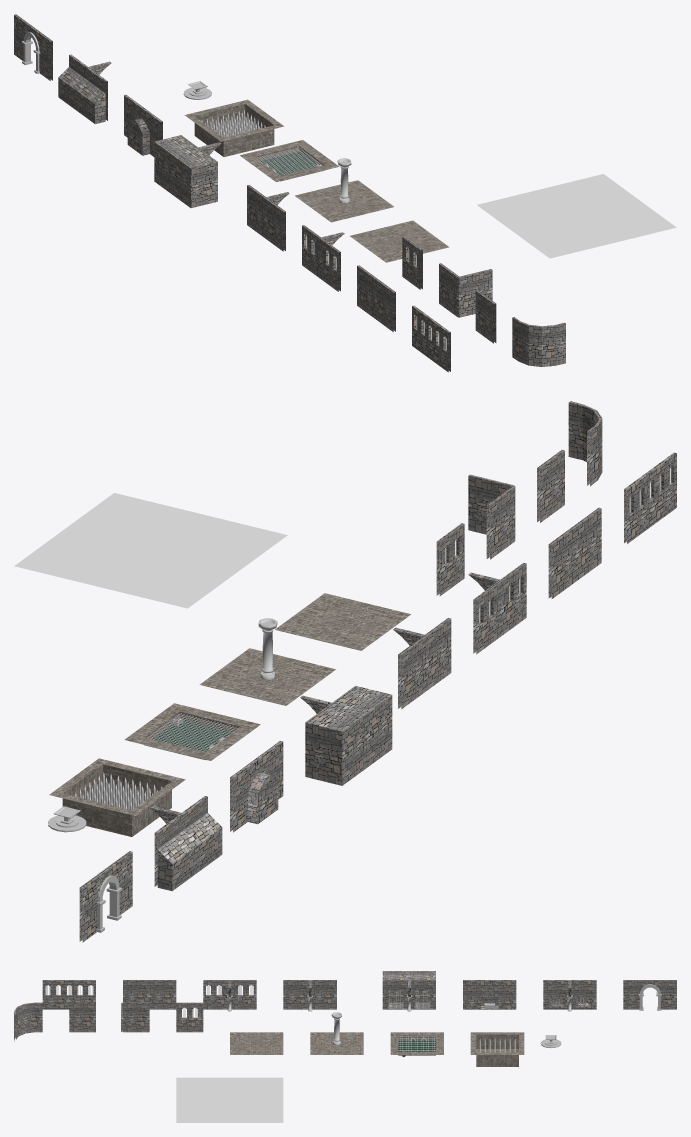
The model's file is dongon_rooms_modular.fbx.
The picture shows the model from 3 angles, top to bottom: view 1: azimuth 30°, elevation 25°; view 2: azimuth 150°, elevation 25°; view 3: azimuth 270°, elevation 25°; orthographic projection. The views are drawn at different scales.
Visible parts, largest first — view 1: AllTextures_mergedObject.018, AllTextures_mergedObject.007, AllTextures_mergedObject.012, AllTextures_mergedObject.001, AllTextures_mergedObject.013, AllTextures_mergedObject.003, AllTextures_mergedObject.015, AllTextures_mergedObject.016, AllTextures_mergedObject.011, AllTextures_mergedObject.010, AllTextures_mergedObject.009, AllTextures_mergedObject.004 (+5 smaller); view 2: AllTextures_mergedObject.018, AllTextures_mergedObject.007, AllTextures_mergedObject.012, AllTextures_mergedObject.001, AllTextures_mergedObject.013, AllTextures_mergedObject.003, AllTextures_mergedObject.016, AllTextures_mergedObject.010, AllTextures_mergedObject.009, AllTextures_mergedObject.006, AllTextures_mergedObject.014, AllTextures_mergedObject.011 (+5 smaller); view 3: AllTextures_mergedObject.018, AllTextures_mergedObject.007, AllTextures_mergedObject.012, AllTextures_mergedObject.013, AllTextures_mergedObject.009, AllTextures_mergedObject.006, AllTextures_mergedObject.010, AllTextures_mergedObject.014, AllTextures_mergedObject.004, AllTextures_mergedObject.001, AllTextures_mergedObject.002, AllTextures_mergedObject.003 (+5 smaller).
Boxes of the visible parts, box(x1,y1,x2,y2) form: AllTextures_mergedObject.018: box(477, 174, 676, 258); AllTextures_mergedObject.007: box(154, 135, 221, 207); AllTextures_mergedObject.012: box(184, 99, 284, 156); AllTextures_mergedObject.001: box(295, 158, 393, 222); AllTextures_mergedObject.013: box(58, 54, 111, 124); AllTextures_mergedObject.003: box(240, 140, 339, 181); AllTextures_mergedObject.015: box(512, 317, 565, 366); AllTextures_mergedObject.016: box(350, 220, 449, 262); AllTextures_mergedObject.011: box(439, 263, 492, 317); AllTextures_mergedObject.010: box(302, 225, 344, 291); AllTextures_mergedObject.009: box(247, 185, 289, 251); AllTextures_mergedObject.004: box(412, 305, 450, 372); AllTextures_mergedObject.018: box(14, 493, 287, 608); AllTextures_mergedObject.007: box(300, 686, 392, 785); AllTextures_mergedObject.012: box(49, 758, 185, 836); AllTextures_mergedObject.001: box(199, 618, 335, 705); AllTextures_mergedObject.013: box(150, 796, 222, 891); AllTextures_mergedObject.003: box(124, 703, 260, 760); AllTextures_mergedObject.016: box(275, 593, 410, 650); AllTextures_mergedObject.010: box(468, 562, 526, 654); AllTextures_mergedObject.009: box(393, 618, 451, 709); AllTextures_mergedObject.006: box(230, 741, 283, 832); AllTextures_mergedObject.014: box(548, 507, 601, 598); AllTextures_mergedObject.011: box(468, 474, 515, 559); AllTextures_mergedObject.018: box(176, 1077, 283, 1122); AllTextures_mergedObject.007: box(382, 971, 435, 1011); AllTextures_mergedObject.012: box(470, 1032, 524, 1066); AllTextures_mergedObject.013: box(543, 980, 596, 1011); AllTextures_mergedObject.009: box(283, 980, 336, 1011); AllTextures_mergedObject.006: box(463, 980, 516, 1009); AllTextures_mergedObject.010: box(203, 980, 256, 1011); AllTextures_mergedObject.014: box(123, 980, 176, 1009); AllTextures_mergedObject.004: box(42, 980, 95, 1009); AllTextures_mergedObject.001: box(310, 1012, 363, 1054); AllTextures_mergedObject.002: box(623, 980, 676, 1010); AllTextures_mergedObject.003: box(390, 1032, 443, 1057).
Bounding box in the file's own units: 1085 × 181 × 2477.
